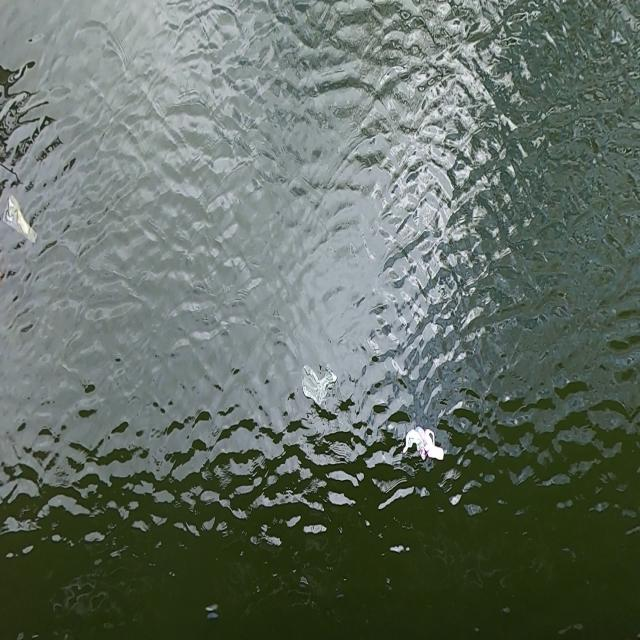Sac plastique: (294, 352, 348, 422)
